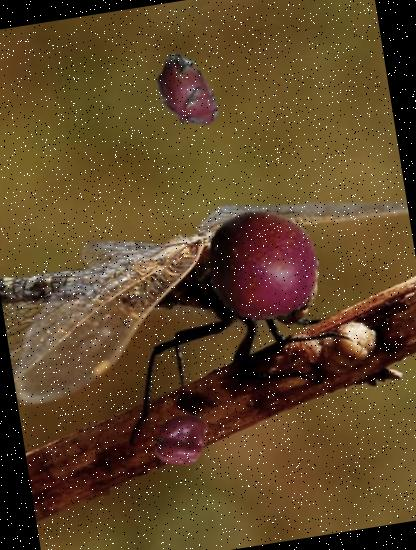Nectarine: (200, 201, 327, 328)
Pepper: (150, 407, 214, 471)
Pitahaya: (140, 47, 231, 137)
